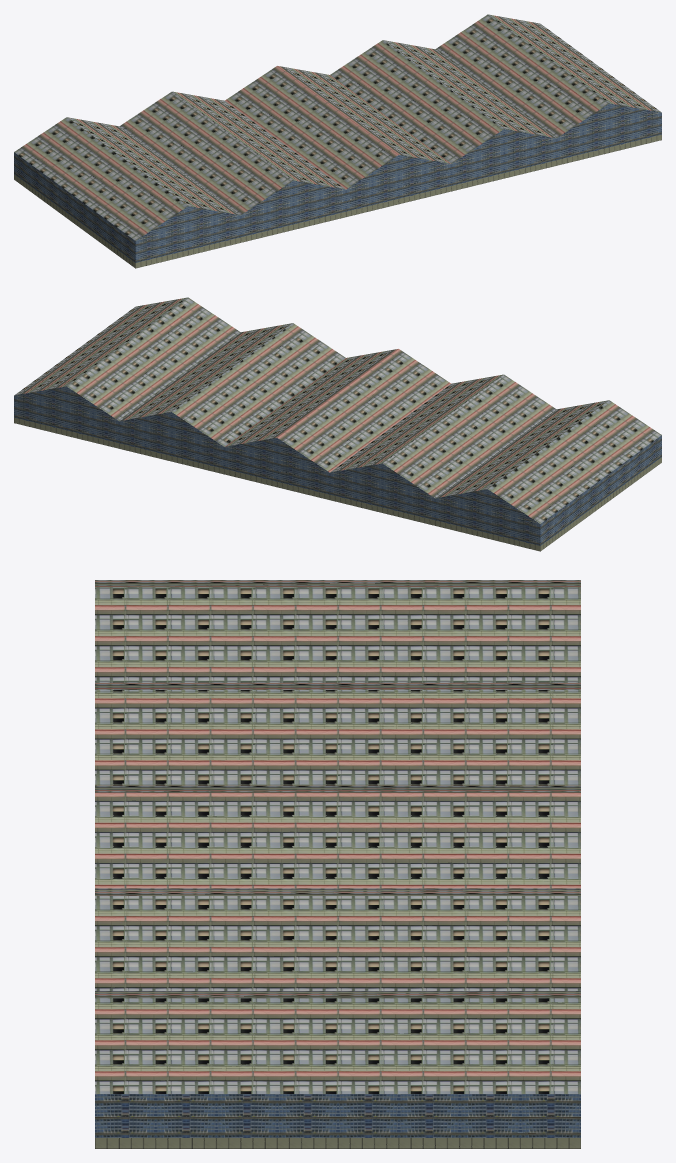
File: KoPf_Suedkurier_lod3.dae
3 views of the same model, one above another, from view 1: azimuth 30°, elevation 25°; view 2: azimuth 150°, elevation 25°; view 3: azimuth 270°, elevation 25° (orthographic). The views are drawn at different scales.
Visible parts, largest first — view 1: SketchUp (×3); view 2: SketchUp (×3); view 3: SketchUp (×3).
Boxes of the visible parts, x1,y1,x2,y2 form: SketchUp (×3): (14, 14, 661, 268); SketchUp (×3): (14, 297, 661, 551); SketchUp (×3): (95, 580, 580, 1148).
Size of the model in its own units: 3937 by 1575 by 354.
